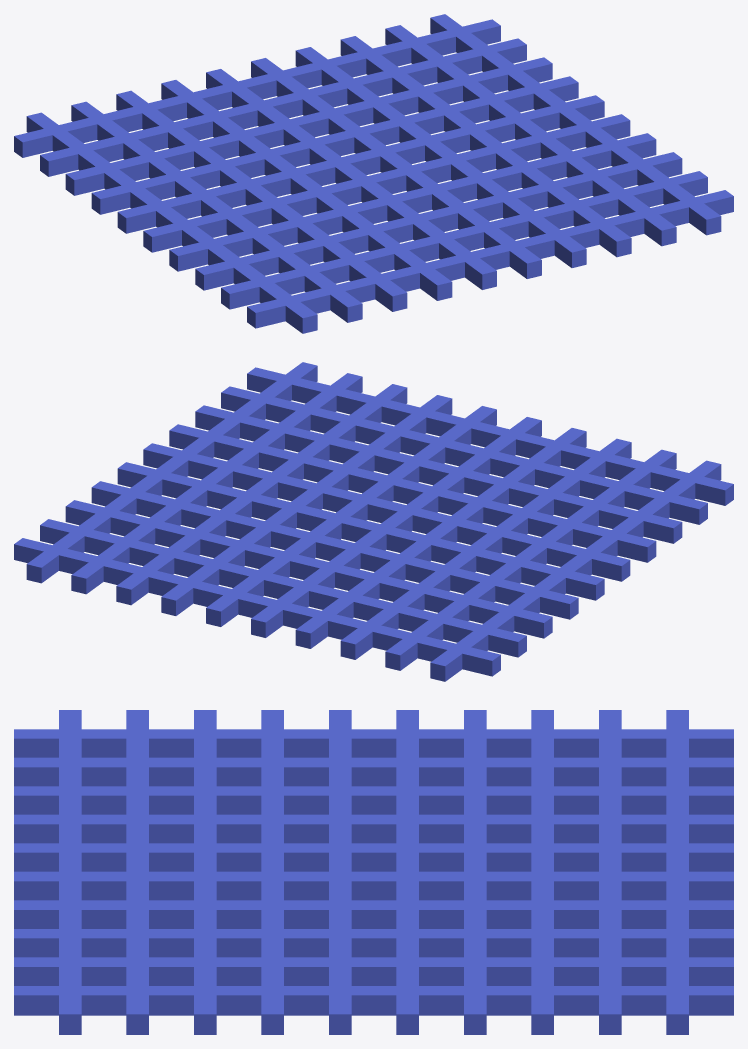
File: empty_fishnet.obj
The picture shows the model from 3 angles, top to bottom: view 1: azimuth 30°, elevation 25°; view 2: azimuth 150°, elevation 25°; view 3: azimuth 270°, elevation 25°; orthographic projection. The views are drawn at different scales.
Bounding box in the file's own units: 3.2 × 0.1 × 3.2.
Materials: 1 (1 with a texture image).
